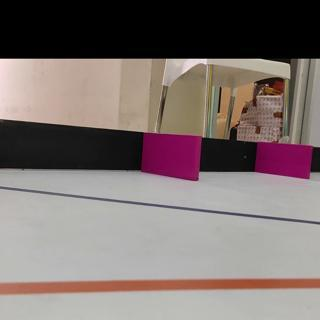xparking: (145, 133, 199, 177), (259, 147, 310, 176)
